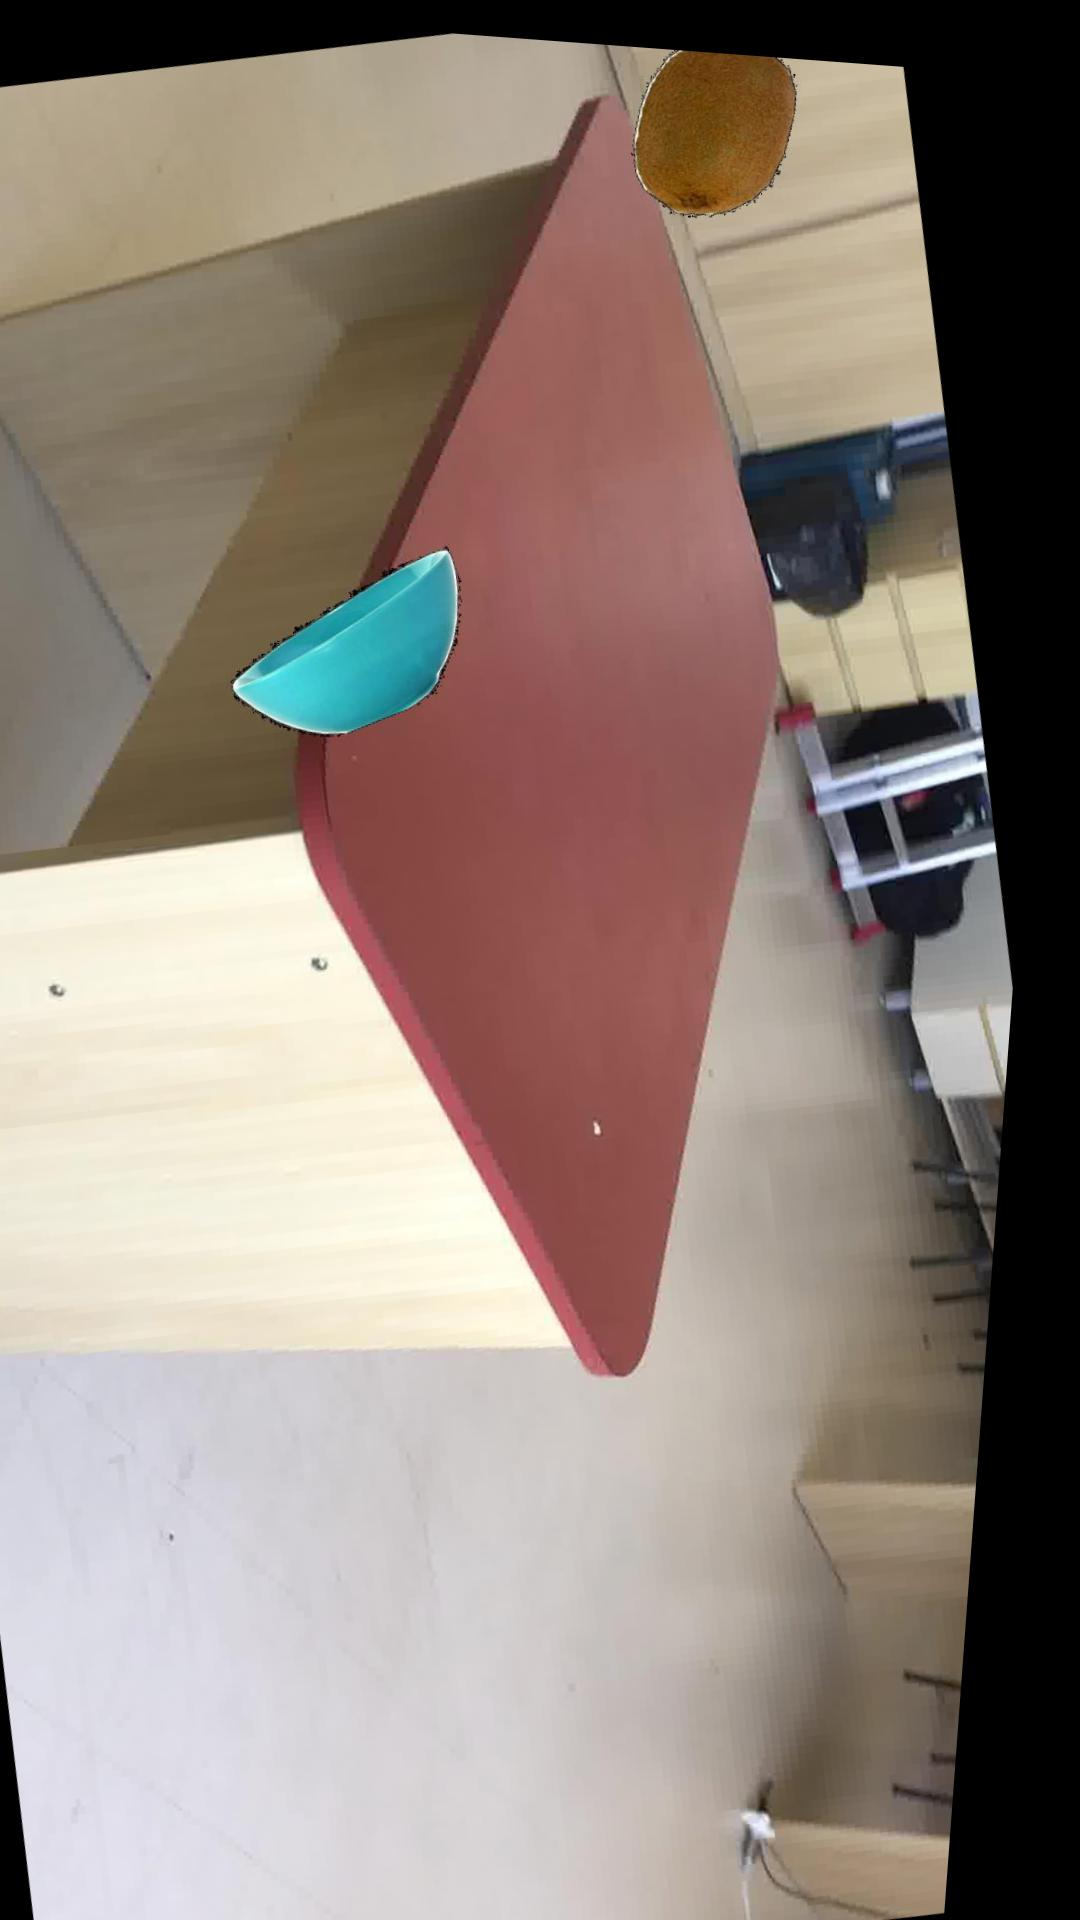bowl: (240, 539, 467, 732)
kiwi: (630, 40, 795, 206)
